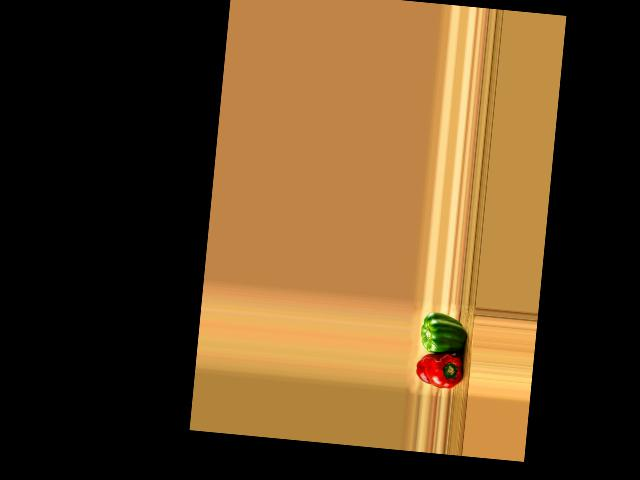bell_pepper: (414, 348, 464, 390)
